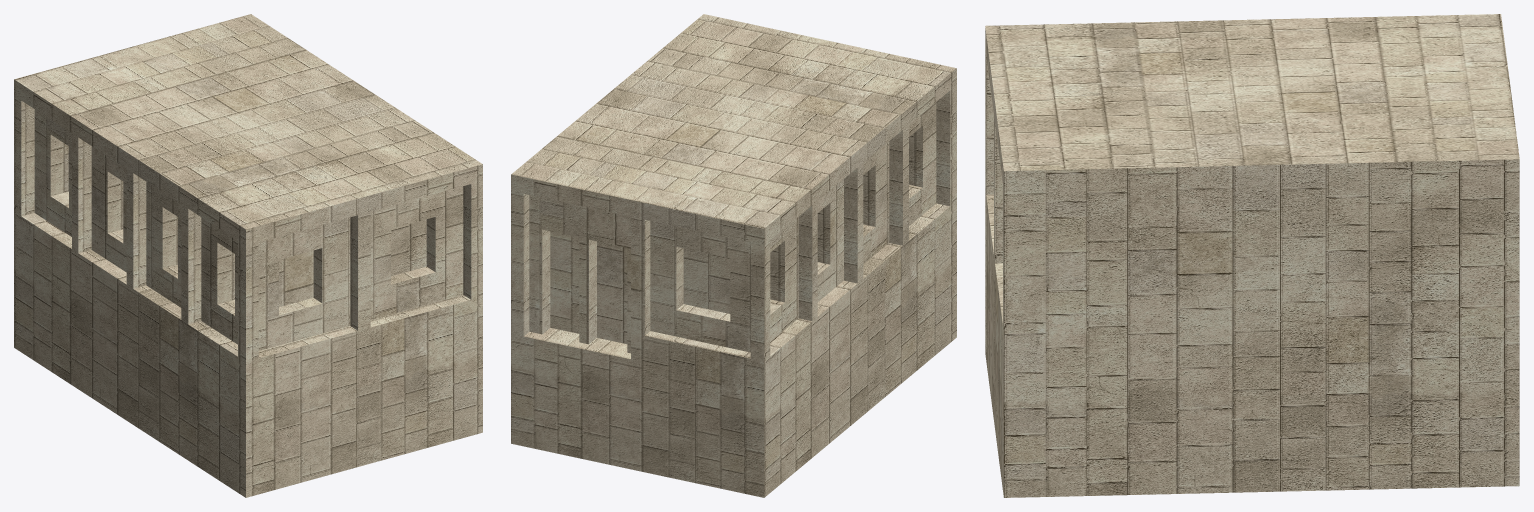
The model's file is walls_123.fbx.
The picture shows the model from 3 angles, left to right: view 1: azimuth 30°, elevation 25°; view 2: azimuth 150°, elevation 25°; view 3: azimuth 270°, elevation 25°; orthographic projection. The views are drawn at different scales.
Visible parts, largest first — view 1: walls_123; view 2: walls_123; view 3: walls_123.
Part boxes in pixels (x1,y1,x2,y2): walls_123: (14, 14, 482, 497); walls_123: (511, 14, 956, 497); walls_123: (985, 14, 1519, 497).
Size of the model in its own units: 200 by 194 by 288.
